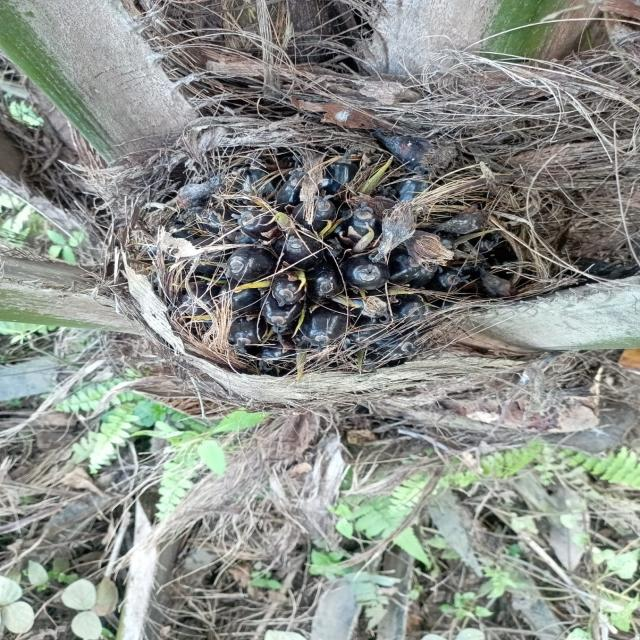fraksi 00: (55, 84, 563, 433)
